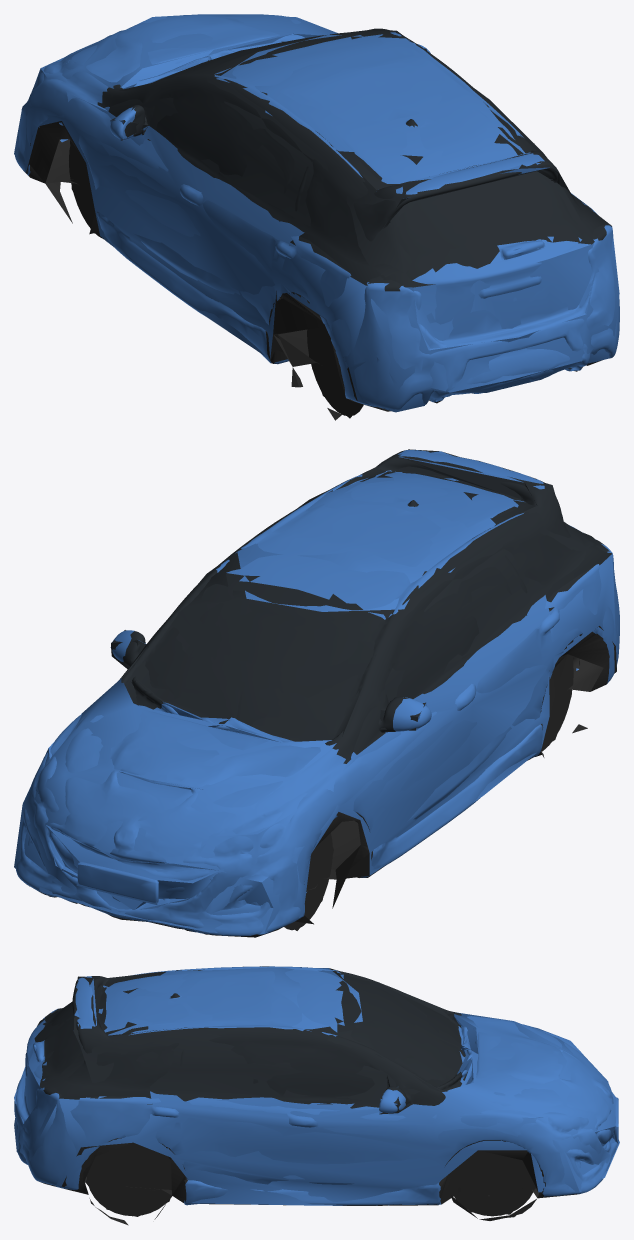
Rendered from mazda-speed-3.glb.
The picture shows the model from 3 angles, top to bottom: view 1: azimuth 30°, elevation 25°; view 2: azimuth 150°, elevation 25°; view 3: azimuth 270°, elevation 25°; orthographic projection. The views are drawn at different scales.
Parts seen in each view (by area): view 1: body, far; view 2: body, far; view 3: body, far.
Part boxes in pixels (left/top/right/bottom): body: left=14, top=14, right=619, bottom=420; far: left=14, top=14, right=619, bottom=418; body: left=16, top=449, right=619, bottom=937; far: left=14, top=449, right=617, bottom=934; body: left=14, top=966, right=618, bottom=1225; far: left=14, top=967, right=619, bottom=1217.
Bounding box in the file's own units: 2.07 × 1.56 × 4.6.
